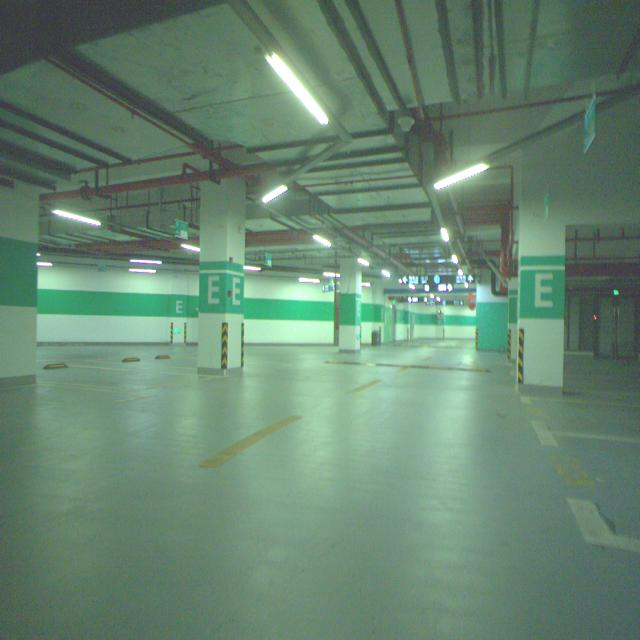pillar: (198, 178, 245, 373), (339, 258, 361, 351)
